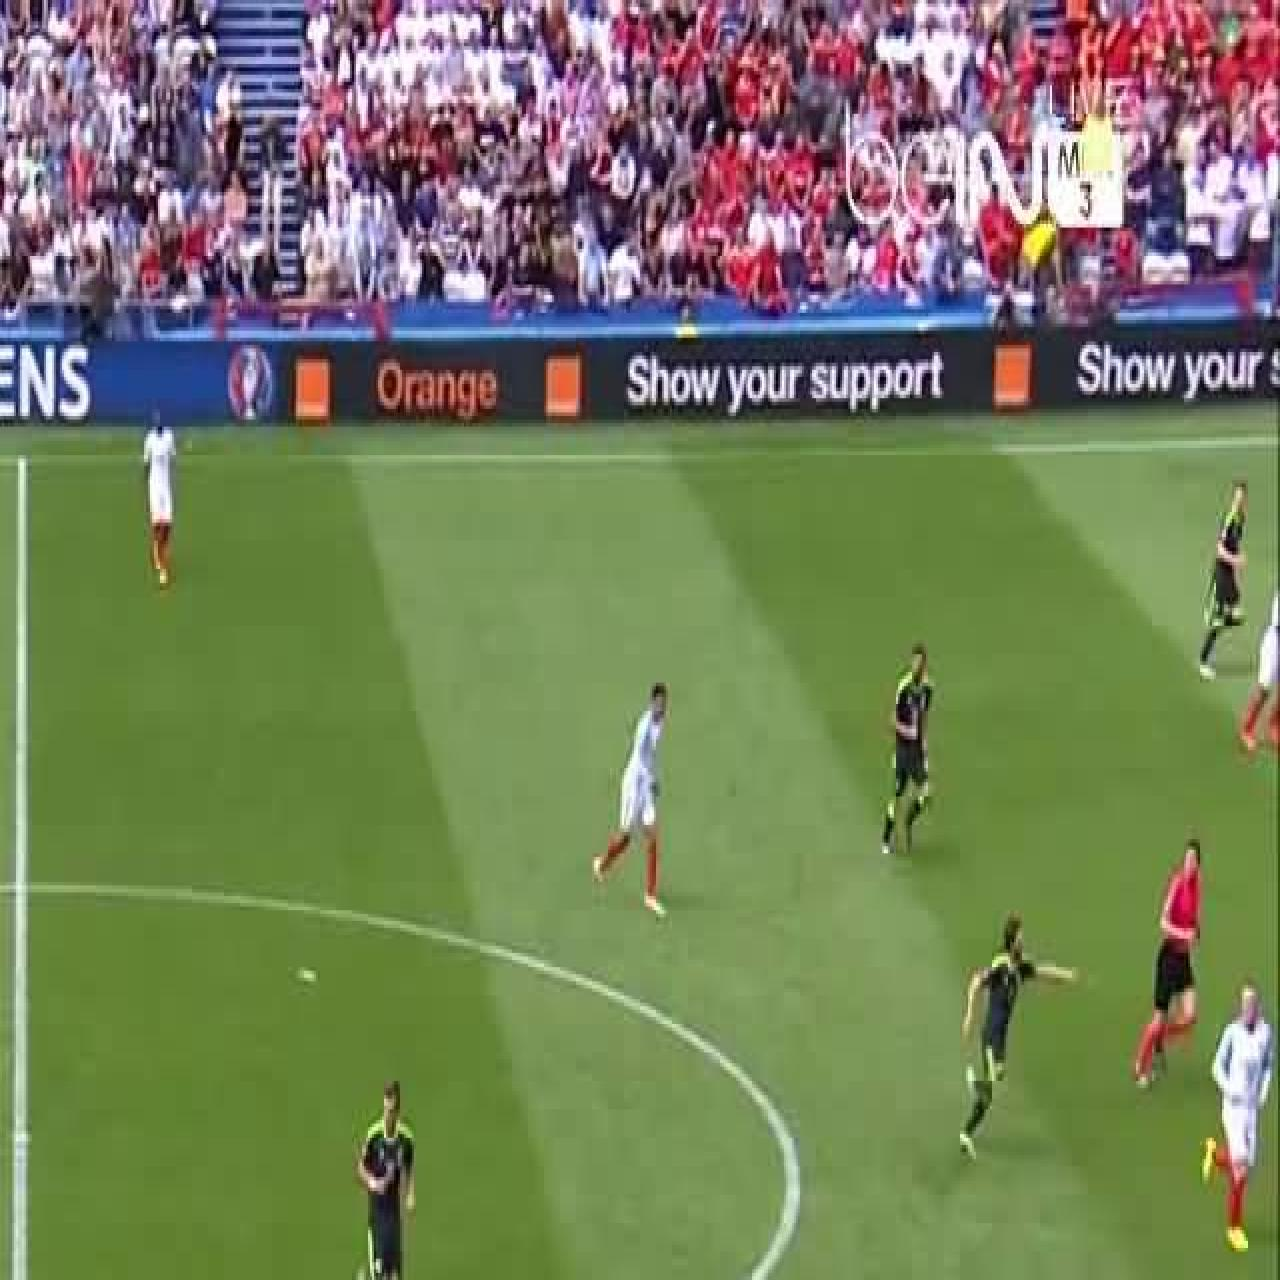football: (960, 920, 1082, 1164), (1202, 984, 1279, 1253), (589, 676, 668, 920), (1135, 839, 1201, 1086), (348, 1074, 414, 1280), (880, 646, 936, 858), (1198, 483, 1249, 688), (144, 405, 175, 588)
